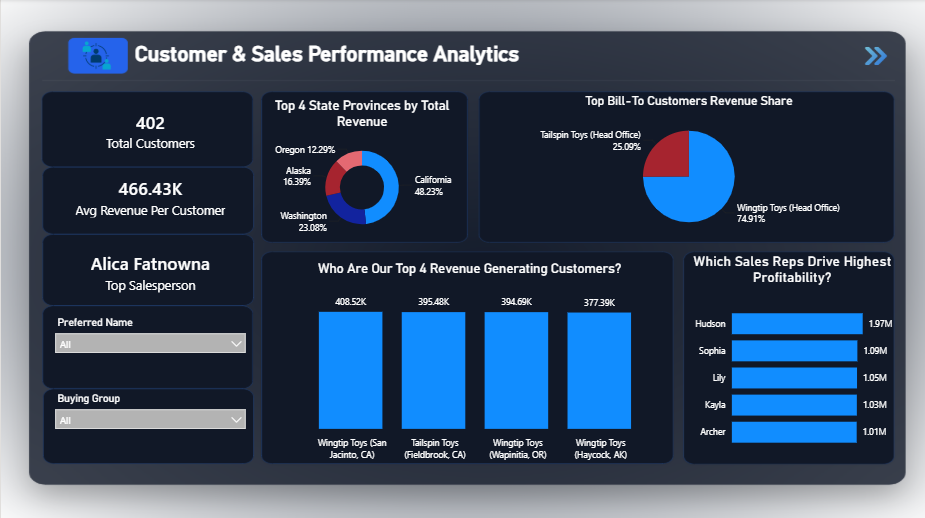

What the dashboard file says about the page in this screenshot:
{"tool":"powerbi","page":{"name":"Page 2","canvas":[1280,720],"ordinal":2},"visuals":[{"type":"image","box":[65.2,55.3,133.2,45.4],"z":0},{"type":"shape","title":"Customer & Sales Performance Analytics","box":[184.3,58.1,544.3,42.5],"z":1000},{"type":"clusteredBarChart","title":"Which Sales Reps Drive Highest Profitability?","fields":{"Category":["DimEmployee.Preferred Name"],"Y":["FactSale.Total Profit"]},"box":[946.8,350.1,284.9,282],"z":2000},{"type":"cardVisual","fields":{"Data":["FactSale.Avg Revenue Per Customer"]},"box":[65.2,225.4,282,93.5],"z":3000},{"type":"donutChart","title":"Top 4 State Provinces by Total Revenue","fields":{"Category":["DimCity.State Province"],"Y":["Sum(FactSale.Total Including Tax)"]},"box":[347.7,136.1,297.3,193.2],"z":4000},{"type":"cardVisual","fields":{"Data":["FactSale.Top Salesperson"]},"box":[65.2,328.8,282,93.5],"z":5000},{"type":"clusteredColumnChart","title":"Who Are Our Top 4 Revenue Generating Customers?","fields":{"Category":["DimCustomer.Customer"],"Y":["Sum(FactSale.Total Including Tax)"]},"box":[368.5,360,552.8,282],"z":6000},{"type":"pieChart","title":"Top Bill-To Customers Revenue Share","fields":{"Y":["FactSale.Total Revenue"],"Category":["DimCustomer.Bill To Customer"]},"box":[661.8,129.3,569.4,199.9],"z":7000},{"type":"cardVisual","fields":{"Data":["Count(DimCustomer.Customer)"]},"box":[65.2,136.1,282,89.3],"z":8000},{"type":"slicer","fields":{"Values":["DimCustomer.Buying Group"]},"box":[65.2,537.2,282,104.9],"z":9000},{"type":"slicer","fields":{"Values":["DimEmployee.Preferred Name"]},"box":[65.2,432.3,282,104.9],"z":10000},{"type":"image","box":[1176.4,62.4,55.3,32.6],"z":11000}]}

Visuals, with their boxes in screenshot pixels (x1, y1, x2, y2), scaled from the page's 1280x720 canvas onto the 925x518 screenshot:
image: (47,40,143,72)
"Customer & Sales Performance Analytics" shape: (133,42,527,72)
"Which Sales Reps Drive Highest Profitability?" clusteredBarChart: (684,252,890,455)
cardVisual - FactSale.Avg Revenue Per Customer: (47,162,251,229)
"Top 4 State Provinces by Total Revenue" donutChart: (251,98,466,237)
cardVisual - FactSale.Top Salesperson: (47,237,251,304)
"Who Are Our Top 4 Revenue Generating Customers?" clusteredColumnChart: (266,259,666,462)
"Top Bill-To Customers Revenue Share" pieChart: (478,93,890,237)
cardVisual - Count(DimCustomer.Customer): (47,98,251,162)
slicer - DimCustomer.Buying Group: (47,386,251,462)
slicer - DimEmployee.Preferred Name: (47,311,251,386)
image: (850,45,890,68)
